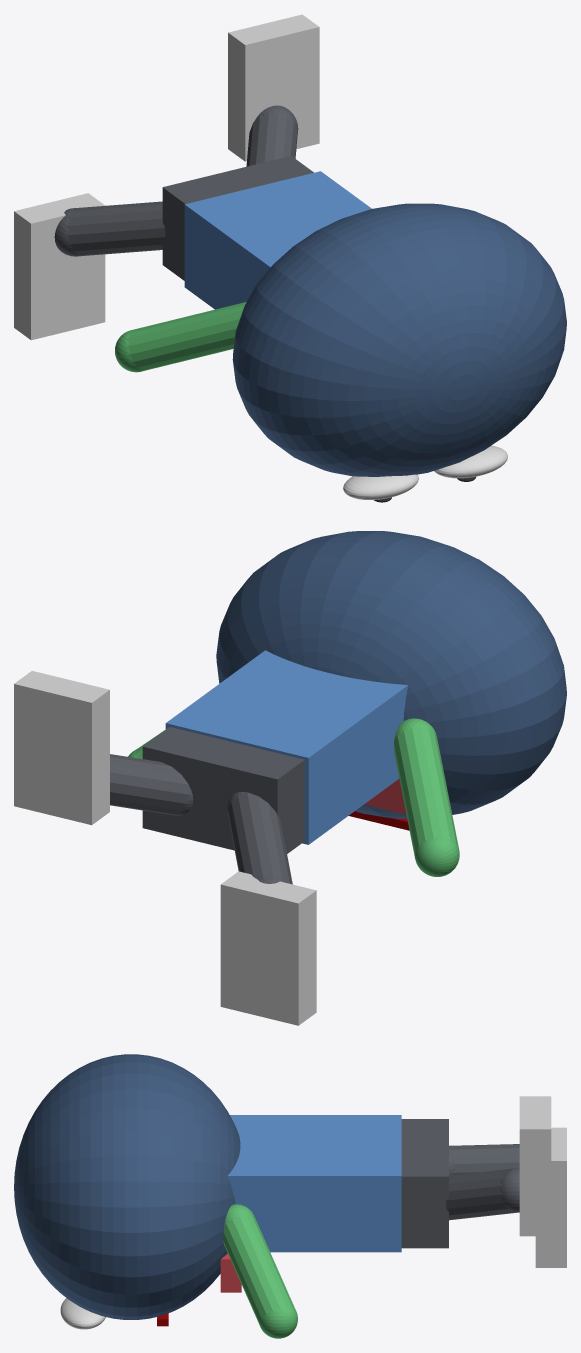
File: character_pepe_runner.glb
3 views of the same model, one above another, from view 1: azimuth 30°, elevation 25°; view 2: azimuth 150°, elevation 25°; view 3: azimuth 270°, elevation 25° (orthographic). The views are drawn at different scales.
Parts seen in each view (by area): view 1: hood, torso, right_shoe, left_shoe, left_arm, left_leg, hips, right_leg, eye_l_white, eye_r_white; view 2: hood, torso, left_shoe, right_shoe, hips, left_arm, left_leg, right_leg, scarf; view 3: hood, torso, hips, right_arm, right_shoe, right_leg, left_shoe, left_leg, eye_r_white, scarf.
Boxes of the visible parts, x1,y1,x2,y2 form: hood: (232,203,566,476); torso: (184,171,371,309); right_shoe: (228,14,319,161); left_shoe: (14,193,105,340); left_arm: (115,302,246,372); left_leg: (54,201,165,256); hips: (162,156,313,280); right_leg: (246,105,298,166); eye_l_white: (343,474,418,499); eye_r_white: (434,445,507,478); hood: (216,531,566,818); torso: (165,650,408,844); left_shoe: (220,871,316,1025); right_shoe: (14,671,109,825); hips: (142,727,304,853); left_arm: (394,718,459,876); left_leg: (227,792,292,884); right_leg: (110,754,193,815); scarf: (364,779,406,814); hood: (14,1054,240,1319); torso: (227,1115,401,1252); hips: (401,1119,448,1248); right_arm: (223,1204,297,1338); right_shoe: (519,1096,551,1236); right_leg: (446,1168,519,1220); left_shoe: (535,1127,566,1267); left_leg: (449,1144,519,1175); eye_r_white: (60,1298,105,1329); scarf: (220,1253,241,1292).
Bounding box in the file's own units: 1.39 × 0.9972 × 2.11.
